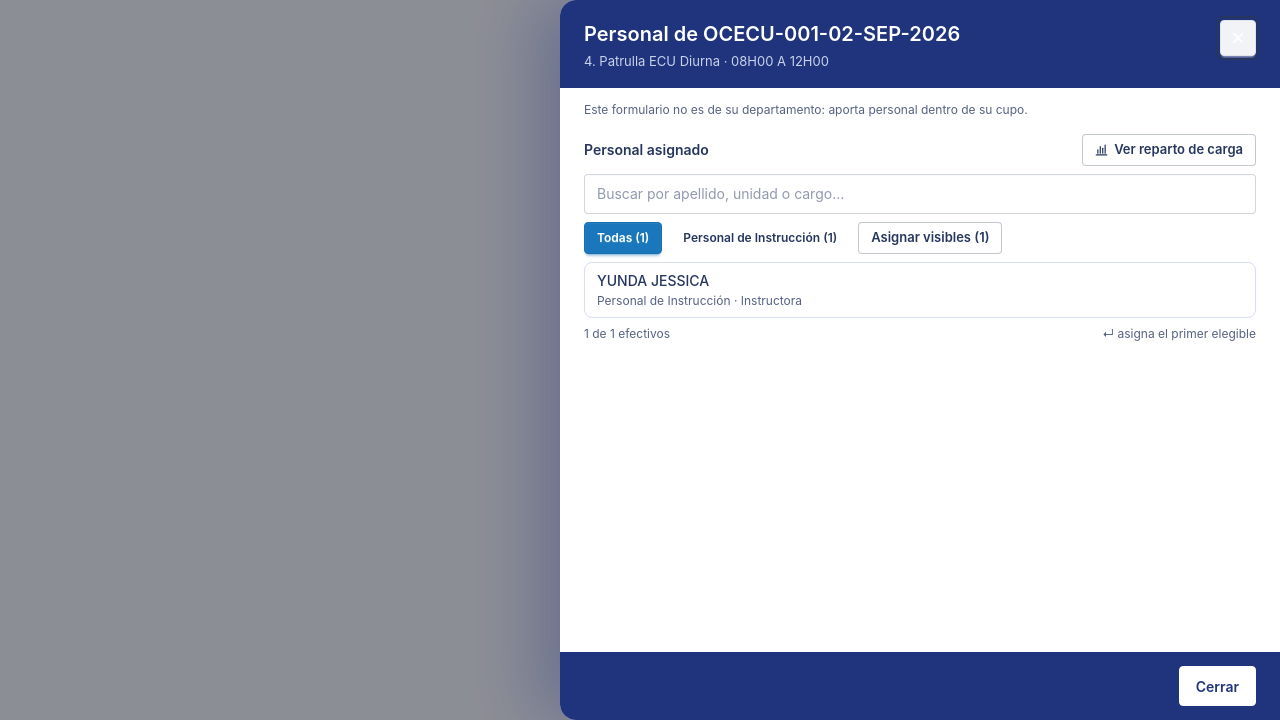
P-13 · cajón estándar y reparto de carga (H7) › «Ver reparto de carga» se abre dentro del mismo cajón, delante
Click the button "Ver reparto de carga".
click(1169, 150)  # box [1082,134,1256,166]
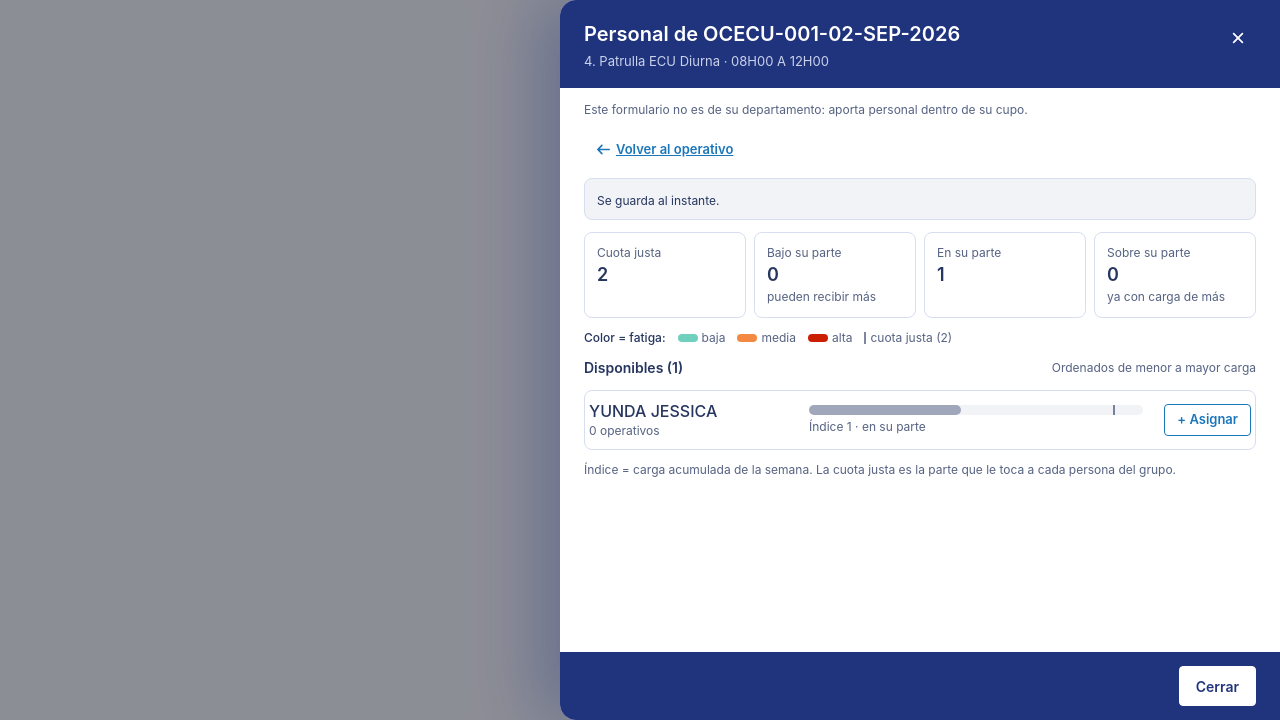
Expected: the number of dialogs is 1, [560,0,1279,719]
Result: the button "Volver al operativo" is shown at [584,134,746,166]
